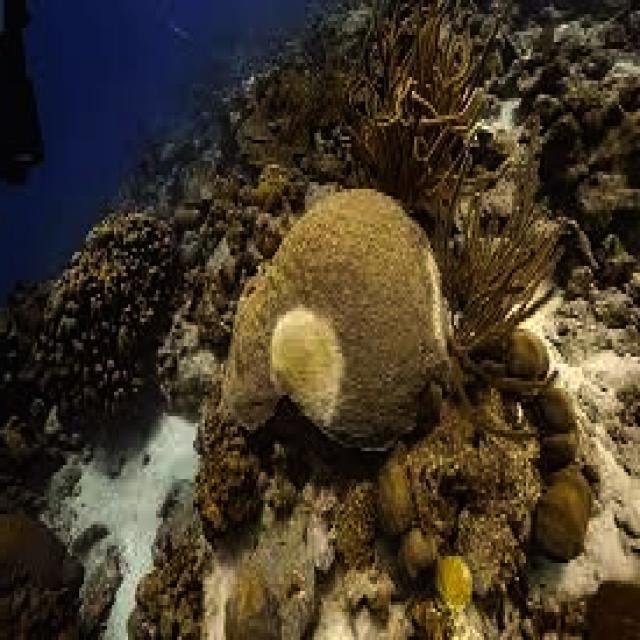Coral: (221, 186, 452, 454)
